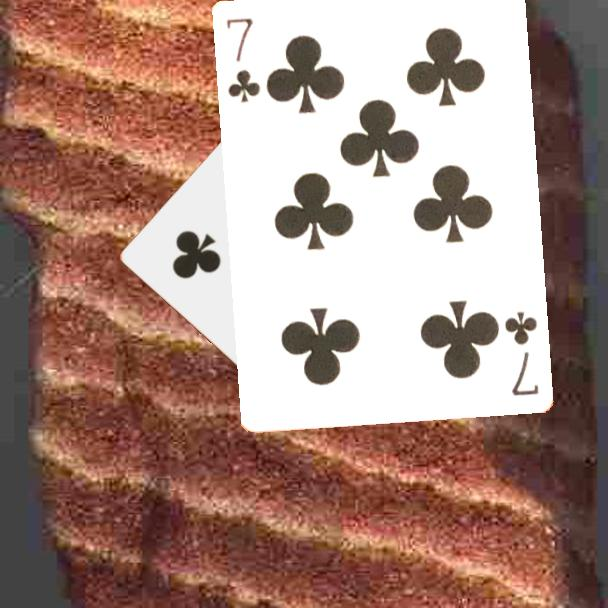c07: (222, 14, 263, 105), (500, 307, 541, 398)
